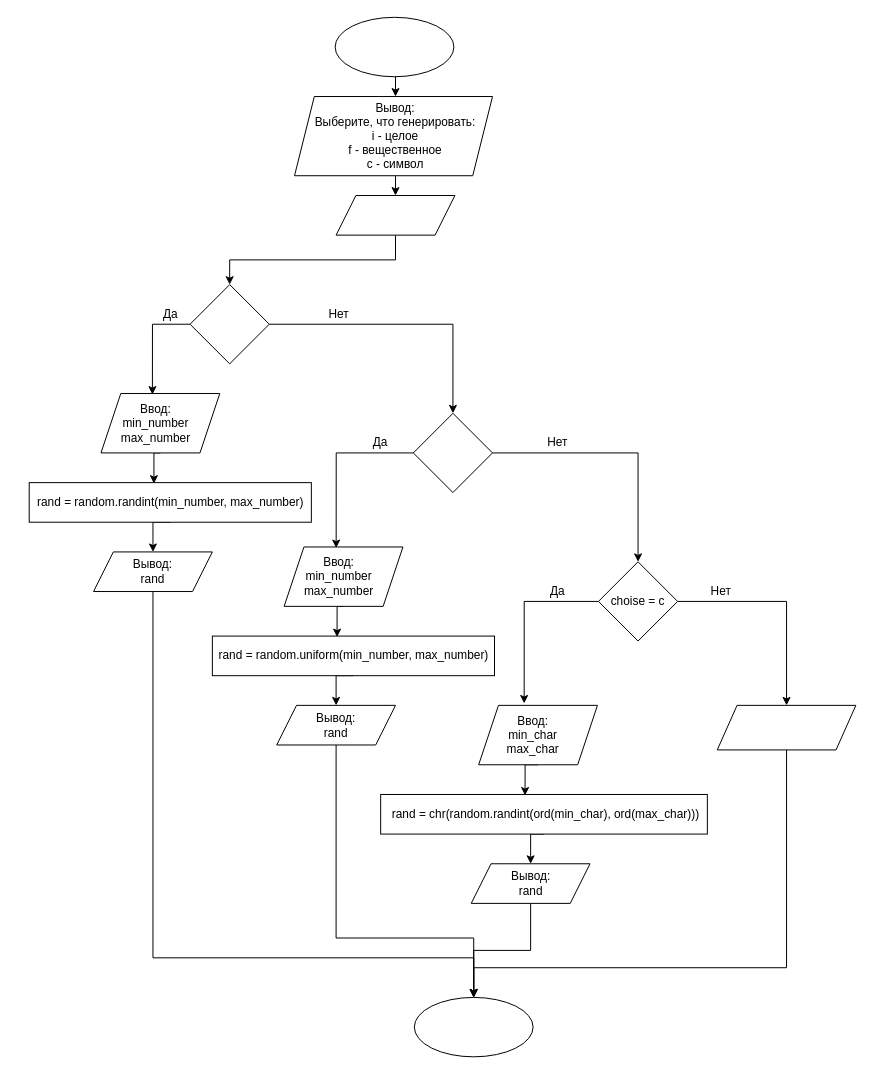
Some shapes in this 873 by 1074 pixel diagram are drawn without their labels. The shapes that lost their labels are listed below. From the top down, each one's box as (x1, y1, x2, y2) in pixels, then its label:
(334, 16, 454, 77): Начало
(335, 195, 455, 235): Ввод choise
(189, 284, 269, 364): choise = i
(412, 412, 493, 493): choise = f
(716, 704, 856, 750): Вывод ошибки неверного выбора
(413, 996, 533, 1057): Конец
